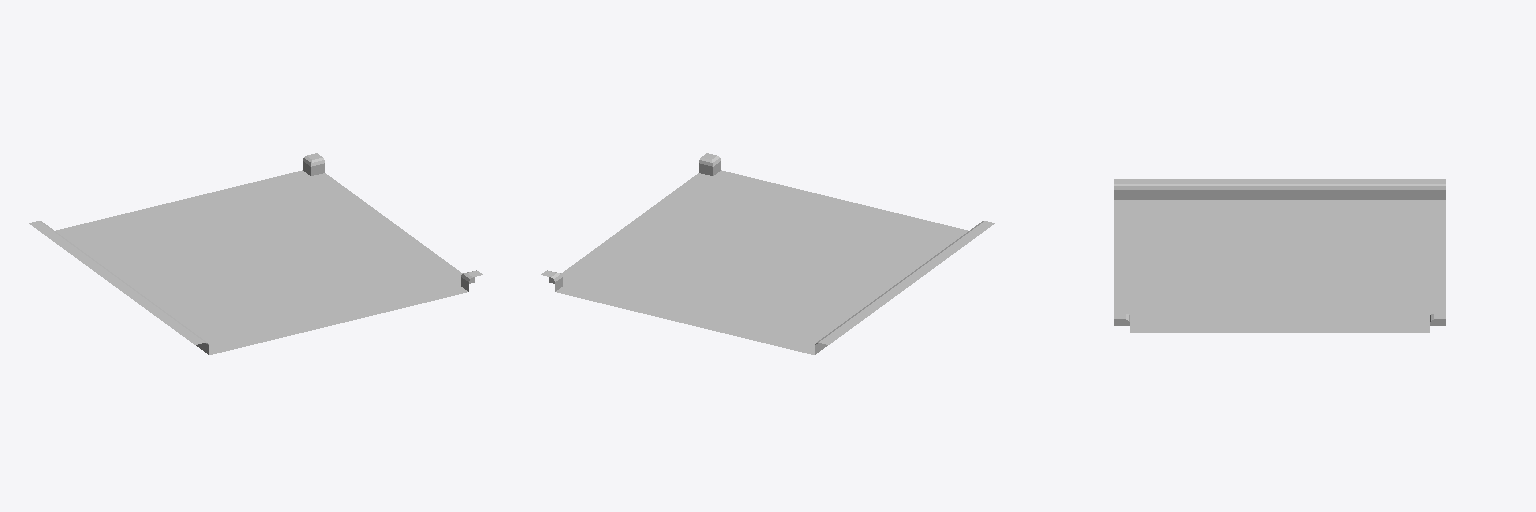
File: T-int_3.obj
3 views of the same model, side by side, from view 1: azimuth 30°, elevation 25°; view 2: azimuth 150°, elevation 25°; view 3: azimuth 270°, elevation 25° (orthographic).
Visible parts, largest first — view 1: pCube9; view 2: pCube9; view 3: pCube9.
Part boxes in pixels (x1,y1,x2,y2): pCube9: (29, 153, 482, 354); pCube9: (541, 153, 994, 354); pCube9: (1114, 179, 1445, 332).
Bounding box in the file's own units: 20 × 0.9118 × 20.